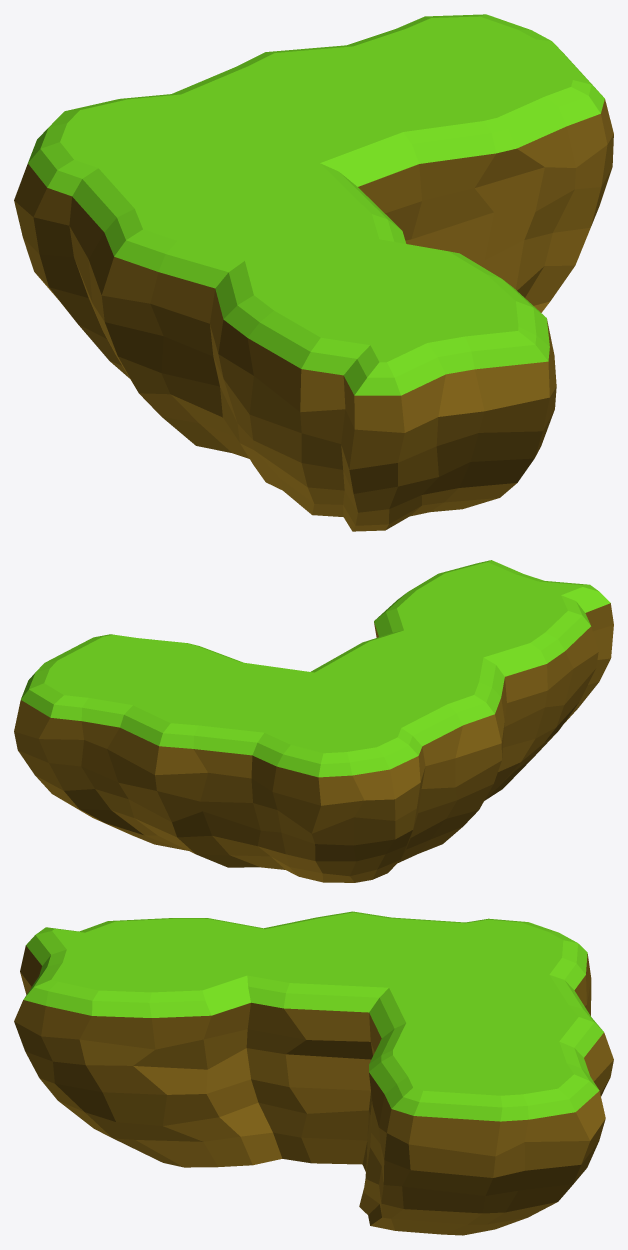
File: land4.fbx
The picture shows the model from 3 angles, top to bottom: view 1: azimuth 30°, elevation 25°; view 2: azimuth 150°, elevation 25°; view 3: azimuth 270°, elevation 25°; orthographic projection. The views are drawn at different scales.
Visible parts, largest first — view 1: Plane; view 2: Plane; view 3: Plane.
Part boxes in pixels (x1,y1,x2,y2): Plane: (14,14,613,531); Plane: (14,560,613,882); Plane: (14,911,613,1235).
Size of the model in its own units: 474 by 181 by 569.
Materials: 1 (1 with a texture image).
